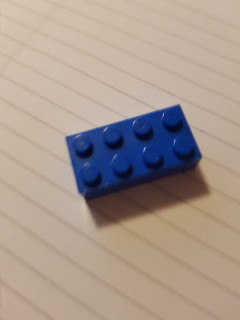2x4 blue: (61, 102, 209, 201)
